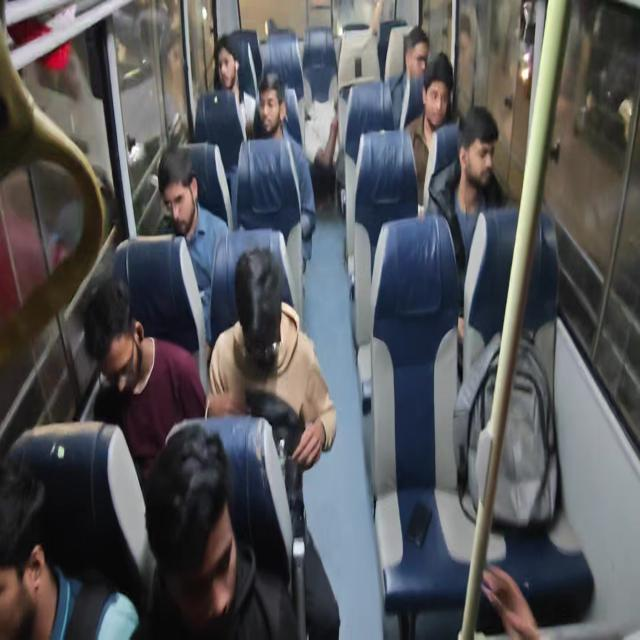person: (136, 421, 302, 638), (84, 275, 248, 489), (208, 246, 337, 469), (0, 461, 140, 638), (157, 146, 229, 344), (425, 104, 505, 280), (254, 72, 316, 239), (404, 51, 456, 213), (480, 562, 541, 638), (213, 36, 255, 140), (389, 25, 429, 129), (453, 7, 479, 120), (213, 36, 240, 93)
